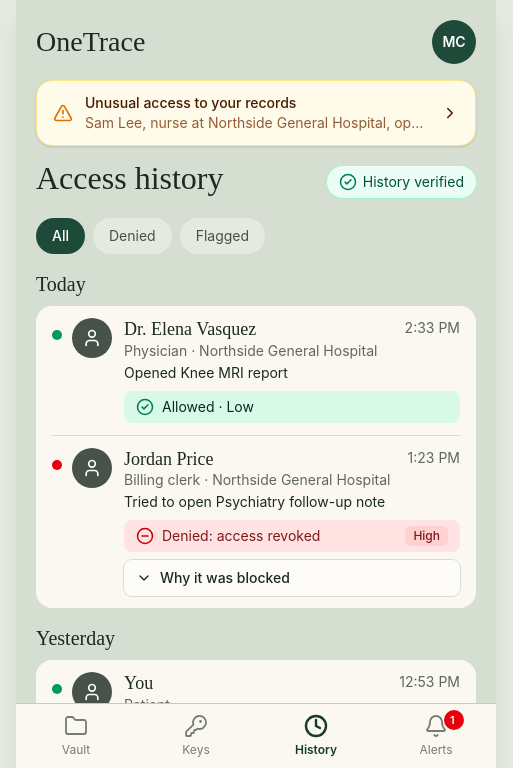
Test case: Patient app (mockup page 2) › History: verified badge, filters, day groups, outcome strips and the why-flagged expander
The image size is (513, 768).
Expected: the heading "Access history" is shown, [36,158,224,198]
Expected: the text "History verified" is shown, [327,166,476,198]
Click the button "Why it was blocked" at (292, 578), box [124,560,460,596]
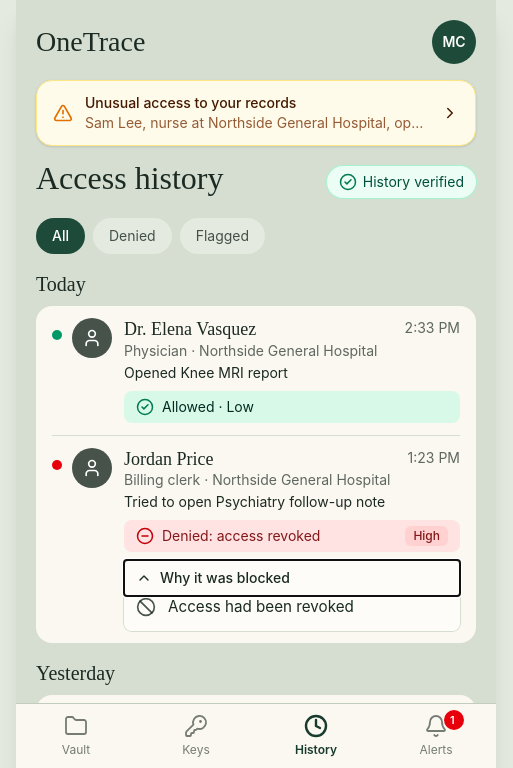
Expected: the list item "Access had been revoked" is shown, [136,597,354,617]
Click the button "Denied" at (132, 236), box [93,218,172,254]
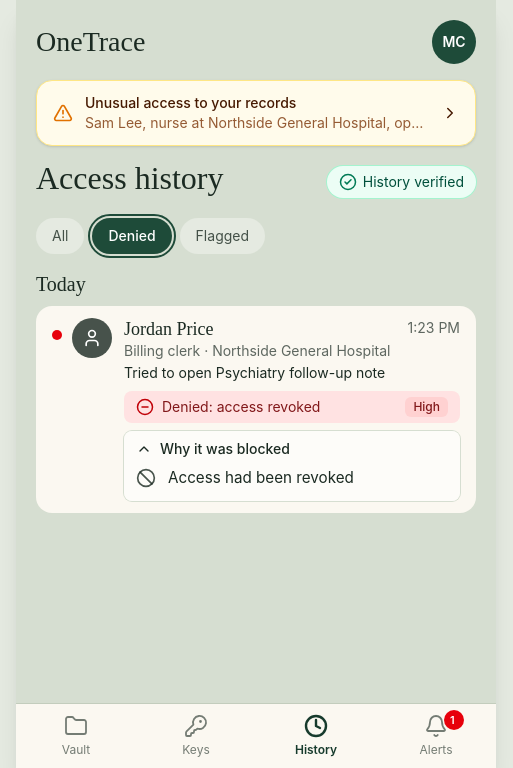
Expected: the text "Tried to open Psychiatry follow-up note" is shown, [124,364,385,380]
Expected: the text "Opened Knee MRI report" is gone
